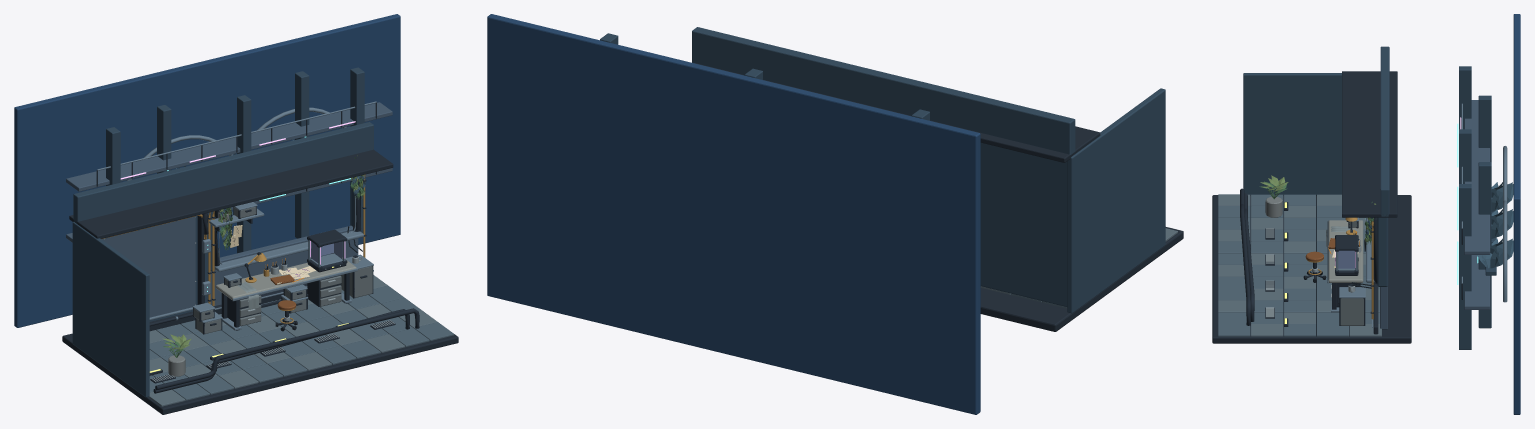
File: MenuInicio.fbx
3 views of the same model, side by side, from view 1: azimuth 30°, elevation 25°; view 2: azimuth 150°, elevation 25°; view 3: azimuth 270°, elevation 25° (orthographic). The views are drawn at different scales.
Parts seen in each view (by area): view 1: MENU_Exterior_Fondo, MENU_Cierre_Lateral_Izquierdo, MENU_Cierre_Superior_Pared, MENU_Techo_Encuadre, MENU_Panel_Interfaz, MENU_Exterior_Pasarela.001, MENU_Base_Piso, MENU_Pared_Bajo_Ventana, MENU_Primer_Plano_Derecho.001, MENU_Exterior_Pilar.003, MENU_Sobre_Mesa, MENU_Exterior_Pilar.002 (+23 smaller); view 2: MENU_Exterior_Fondo, MENU_Cierre_Lateral_Izquierdo, MENU_Cierre_Superior_Pared, MENU_Pared_Interfaz_Despejada, MENU_Base_Piso, MENU_Techo_Encuadre; view 3: MENU_Cierre_Lateral_Izquierdo, MENU_Techo_Encuadre, MENU_Base_Piso, MENU_Exterior_Fondo, MENU_Exterior_Pasarela.001, MENU_Exterior_Pilar.004, MENU_Cierre_Superior_Pared, MENU_Exterior_Pilar.003, MENU_Primer_Plano_Derecho.001, MENU_Exterior_Pasarela, MENU_Sobre_Mesa, MENU_Montante_Ventana.001 (+51 smaller).
Boxes of the visible parts, x1,y1,x2,y2 form: MENU_Exterior_Fondo: (14,14,400,327); MENU_Cierre_Lateral_Izquierdo: (72,222,149,397); MENU_Cierre_Superior_Pared: (73,122,373,223); MENU_Techo_Encuadre: (69,149,393,238); MENU_Panel_Interfaz: (102,216,195,317); MENU_Exterior_Pasarela.001: (66,102,392,191); MENU_Base_Piso: (62,277,458,414); MENU_Pared_Bajo_Ventana: (210,225,358,306); MENU_Primer_Plano_Derecho.001: (153,308,419,393); MENU_Exterior_Pilar.003: (295,71,309,238); MENU_Sobre_Mesa: (215,257,356,300); MENU_Exterior_Pilar.002: (237,95,251,253); MENU_Exterior_Fondo: (487,14,980,414); MENU_Cierre_Lateral_Izquierdo: (1067,88,1165,313); MENU_Cierre_Superior_Pared: (692,27,1075,154); MENU_Pared_Interfaz_Despejada: (980,142,1067,306); MENU_Base_Piso: (980,227,1183,331); MENU_Techo_Encuadre: (692,62,1100,162); MENU_Cierre_Lateral_Izquierdo: (1243,73,1341,195); MENU_Techo_Encuadre: (1342,71,1397,217); MENU_Base_Piso: (1212,195,1411,343); MENU_Exterior_Fondo: (1513,14,1520,414); MENU_Exterior_Pasarela.001: (1464,100,1490,254); MENU_Exterior_Pilar.004: (1459,184,1471,349); MENU_Cierre_Superior_Pared: (1380,46,1389,216); MENU_Exterior_Pilar.003: (1478,162,1491,328); MENU_Primer_Plano_Derecho.001: (1240,188,1254,326); MENU_Exterior_Pasarela: (1464,255,1490,309); MENU_Sobre_Mesa: (1328,220,1363,282); MENU_Montante_Ventana.001: (1377,217,1388,286).
Bounding box in the file's own units: 2248 × 1200 × 1548.
